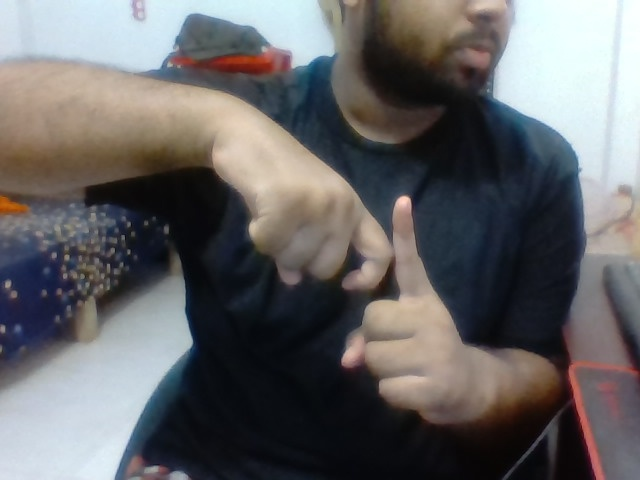K: (196, 82, 498, 440)
